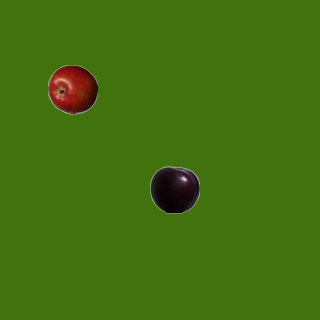Apple Braeburn: (47, 64, 97, 114)
Cherry Wax Black: (149, 164, 199, 214)
